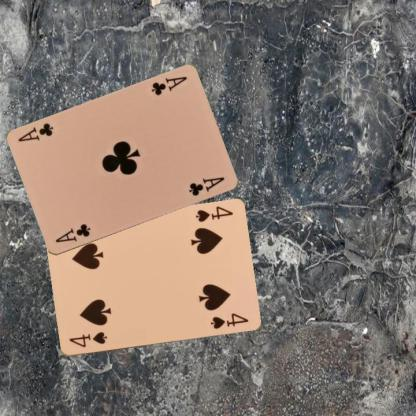4s: (66, 329, 108, 349), (193, 204, 234, 224)
Ac: (148, 74, 188, 97), (52, 222, 92, 244)
